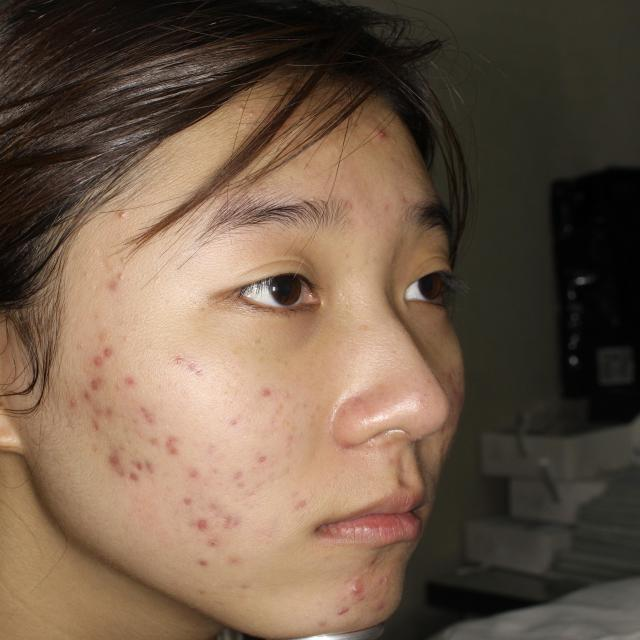papule: (341, 571, 371, 600), (226, 463, 256, 488), (323, 598, 355, 620), (101, 270, 130, 294), (82, 364, 104, 394), (178, 459, 204, 484), (371, 119, 394, 147), (95, 402, 126, 422), (256, 380, 284, 402), (124, 462, 148, 487), (218, 503, 241, 529), (150, 434, 179, 454), (192, 505, 212, 533), (172, 488, 198, 509), (101, 445, 120, 472), (191, 553, 224, 567), (90, 350, 114, 367), (95, 336, 120, 351), (105, 204, 124, 222), (204, 529, 221, 549), (131, 404, 155, 418), (75, 390, 101, 401), (117, 373, 136, 388), (378, 594, 394, 611)
